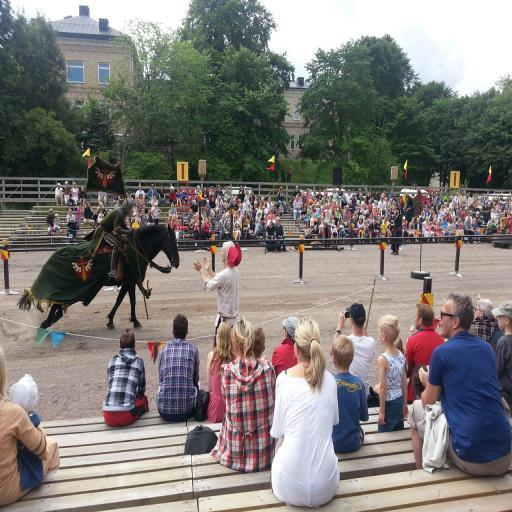Horse: (17, 222, 179, 328)
